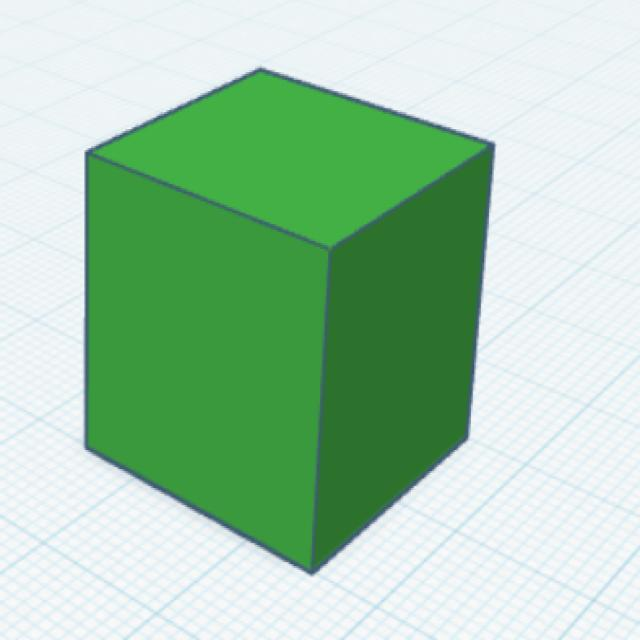cube: (81, 62, 498, 580)
